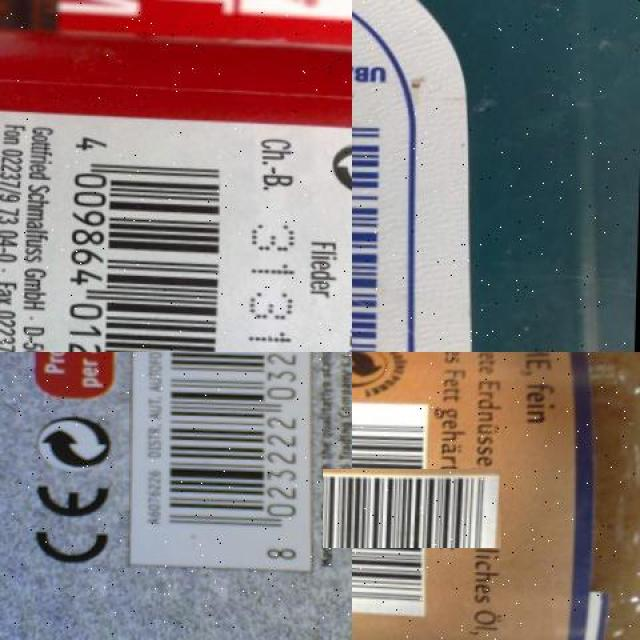Barcode: (126, 352, 322, 573), (52, 128, 245, 352), (317, 434, 466, 583)
